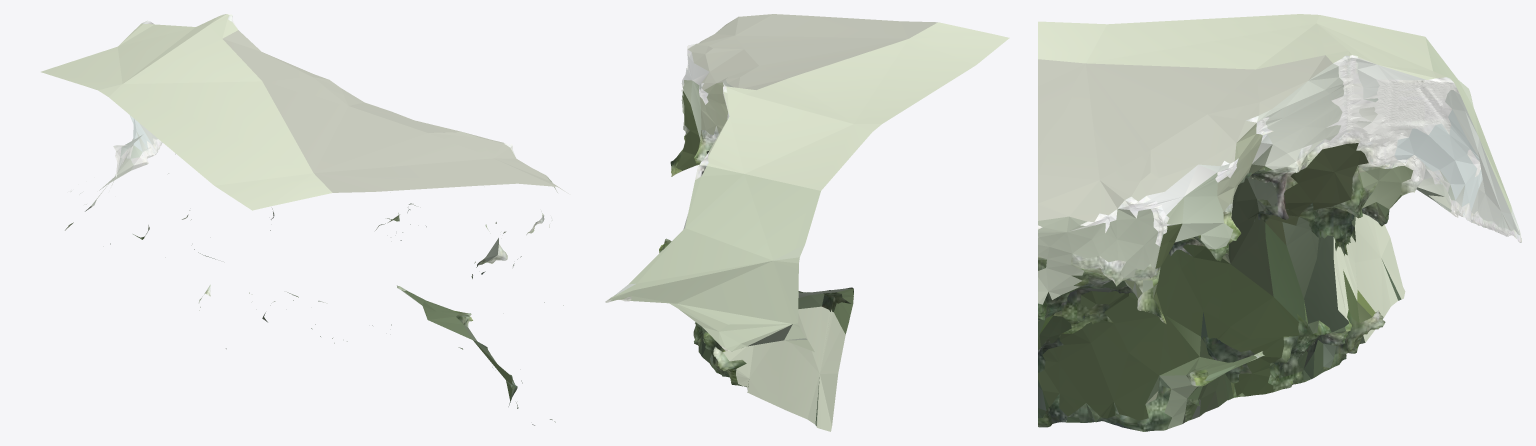
3 renders of one model, left to right at view 1: azimuth 30°, elevation 25°; view 2: azimuth 150°, elevation 25°; view 3: azimuth 270°, elevation 25°, orthographic. The views are drawn at different scales.
Size of the model in its own units: 2.64 by 2.55 by 3.71.
1 material, 1 textured.
